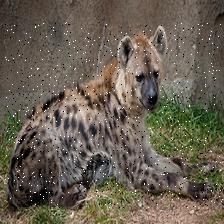hyena: (5, 22, 224, 208)
